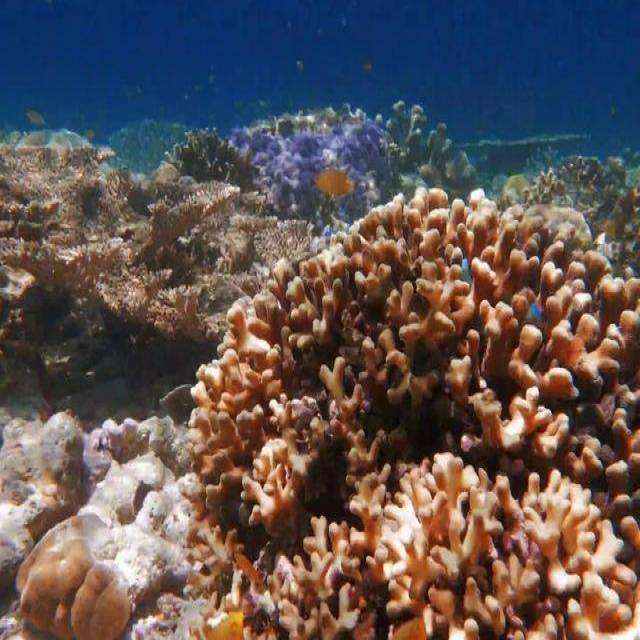reefs: (176, 190, 636, 639), (1, 140, 317, 336)
